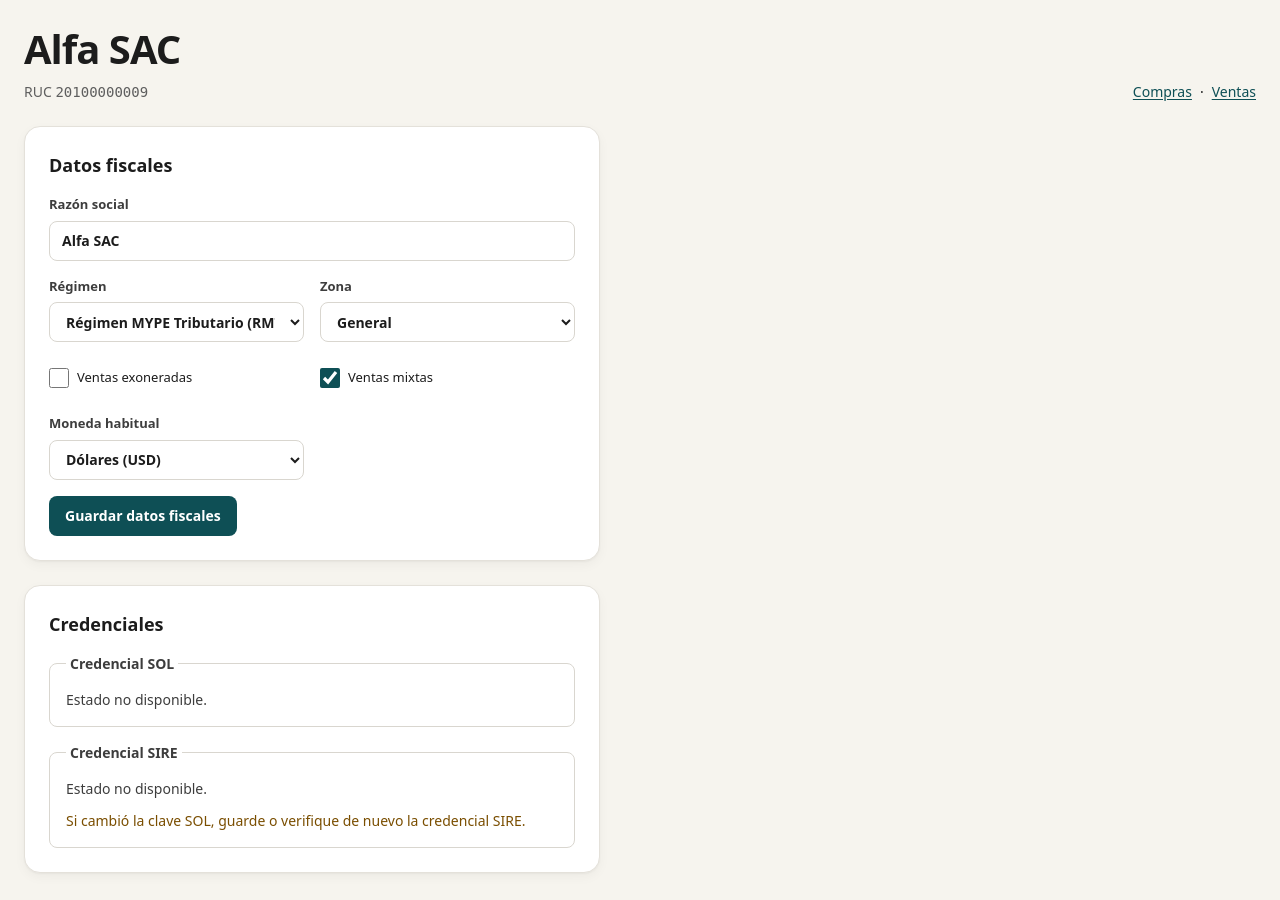
it: /clientes/:id · datos fiscales y archivado (007a) › PATCH 400 del catálogo → mensaje propio
Click the button "Guardar datos fiscales".
click(143, 516)  # box [49,496,237,536]
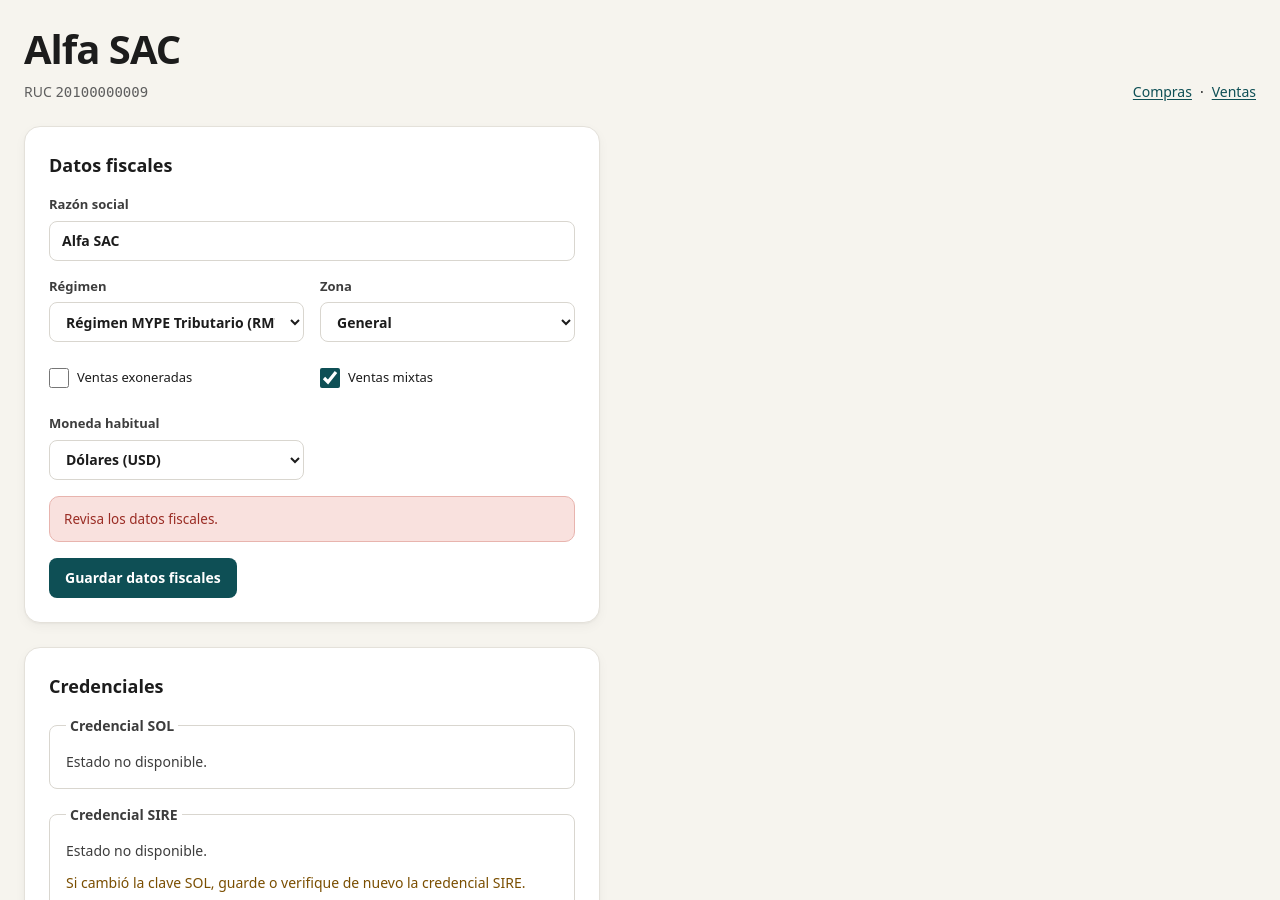
Check: the text "Revisa los datos fiscales." is shown, box [49,496,575,542]
